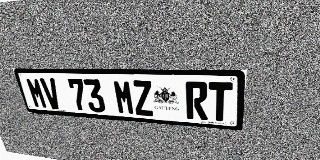3: (83, 79, 106, 113)
7: (66, 79, 90, 112)
M: (112, 80, 136, 115), (25, 78, 48, 109)
R: (185, 81, 208, 120)
T: (209, 82, 233, 122)
V: (39, 78, 63, 110)
Z: (131, 80, 154, 116)
